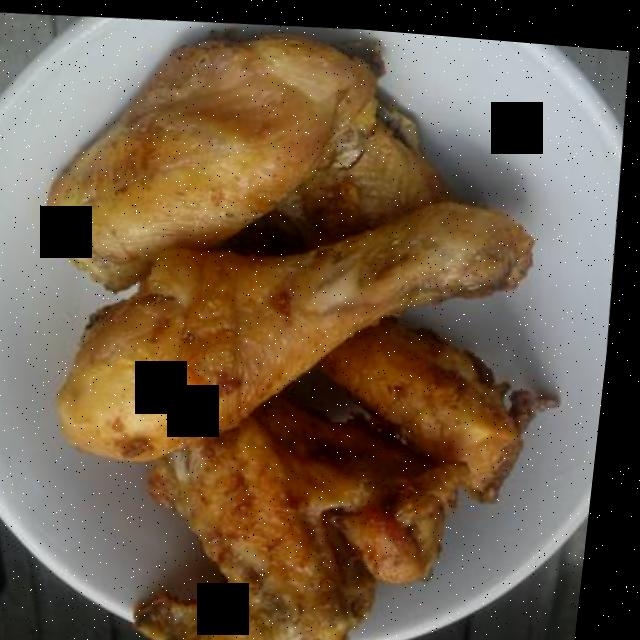Frango: (50, 156, 539, 482), (36, 4, 462, 316), (140, 398, 484, 640), (324, 317, 540, 494)
